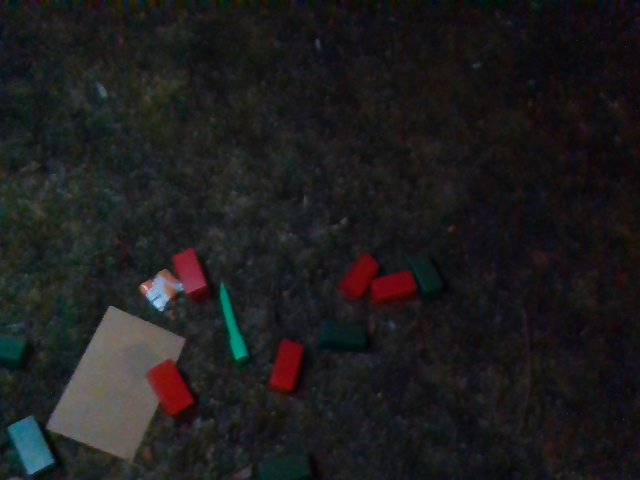Probe: (211, 280, 253, 374)
